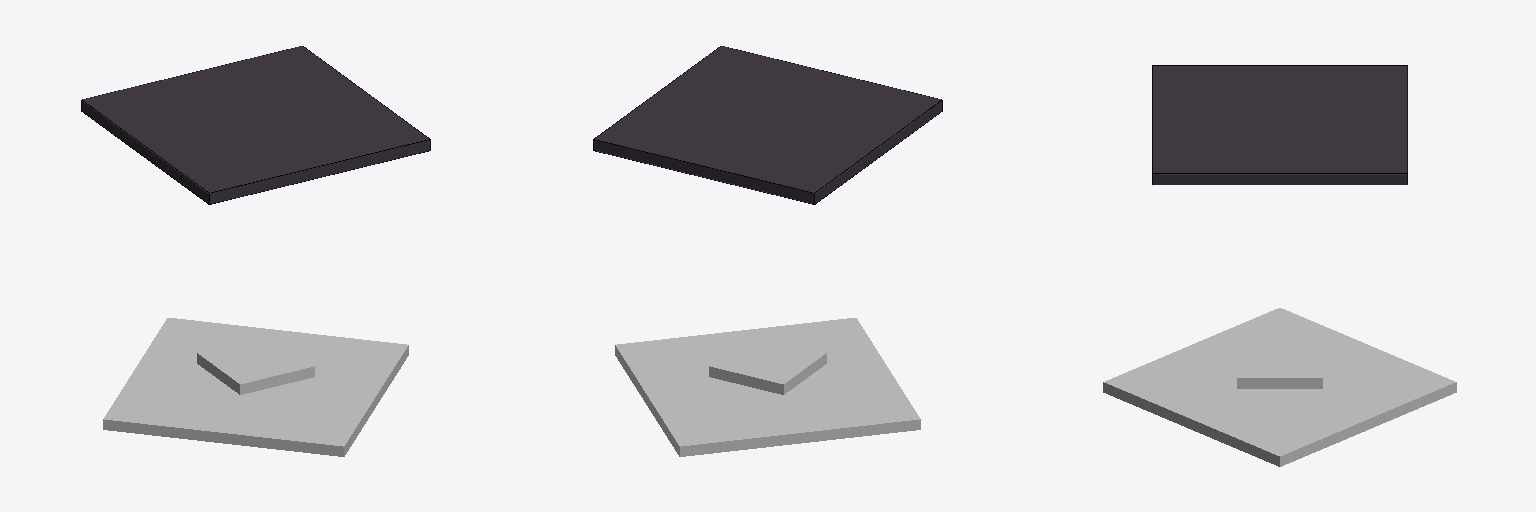
3 renders of one model, left to right at view 1: azimuth 30°, elevation 25°; view 2: azimuth 150°, elevation 25°; view 3: azimuth 270°, elevation 25°, orthographic.
Visible parts, largest first — view 1: 立方体.004, 立方体.001, 立方体; view 2: 立方体.004, 立方体.001, 立方体; view 3: 立方体.004, 立方体.001, 立方体.
Part boxes in pixels (x1,y1,x2,y2): 立方体.004: (81, 46, 430, 204); 立方体.001: (103, 318, 408, 456); 立方体: (197, 335, 314, 394); 立方体.004: (593, 46, 942, 204); 立方体.001: (615, 318, 920, 456); 立方体: (709, 335, 826, 394); 立方体.004: (1152, 65, 1407, 184); 立方体.001: (1103, 308, 1456, 466); 立方体: (1237, 342, 1322, 388).
Bounding box in the file's own units: 4.54 × 3.87 × 4.54.
Materials: 1 (1 with a texture image).